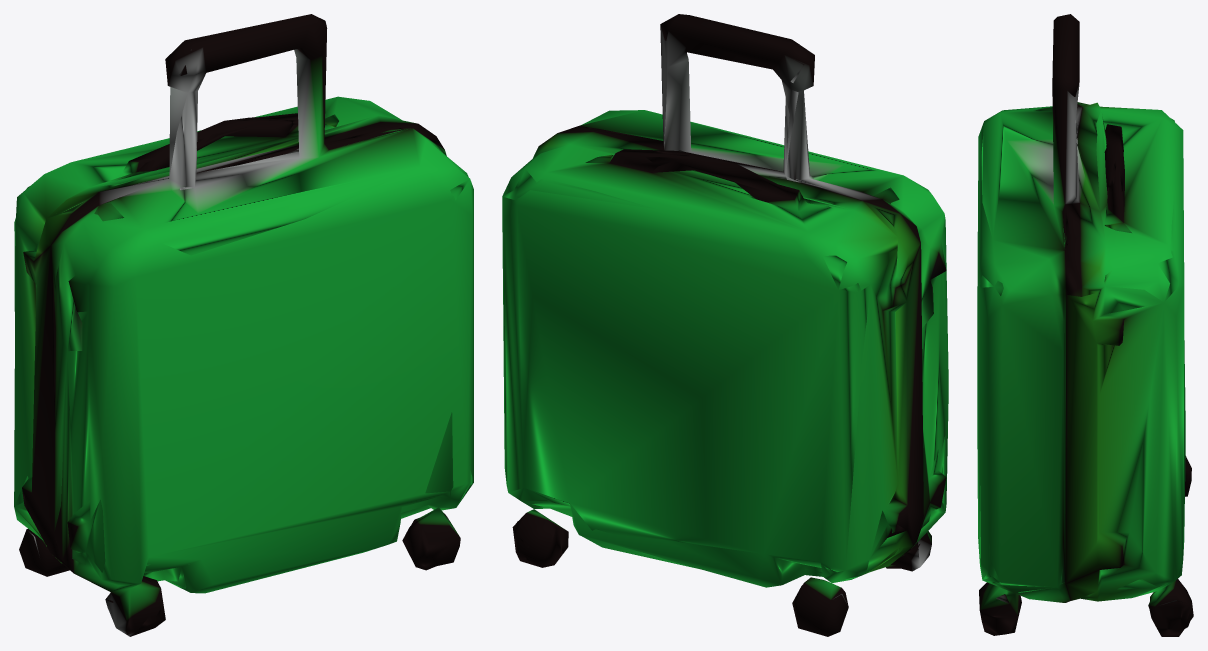
Rendered from gen3d-suitcase-lod1.glb.
The picture shows the model from 3 angles, left to right: view 1: azimuth 30°, elevation 25°; view 2: azimuth 150°, elevation 25°; view 3: azimuth 270°, elevation 25°; orthographic projection. The views are drawn at different scales.
Parts seen in each view (by area): view 1: part_0; view 2: part_0; view 3: part_0.
Boxes of the visible parts, x1,y1,x2,y2 form: part_0: [14, 14, 473, 636]; part_0: [502, 14, 948, 636]; part_0: [977, 14, 1193, 636].
Bounding box in the file's own units: 0.7647 × 0.9983 × 0.3764.
